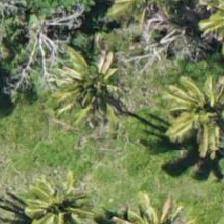coconut_tree: (39, 39, 129, 129), (163, 67, 223, 157), (23, 163, 113, 223), (177, 0, 223, 56)
